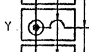Single Phase Tap-Off Unit: (19, 5, 78, 43)
